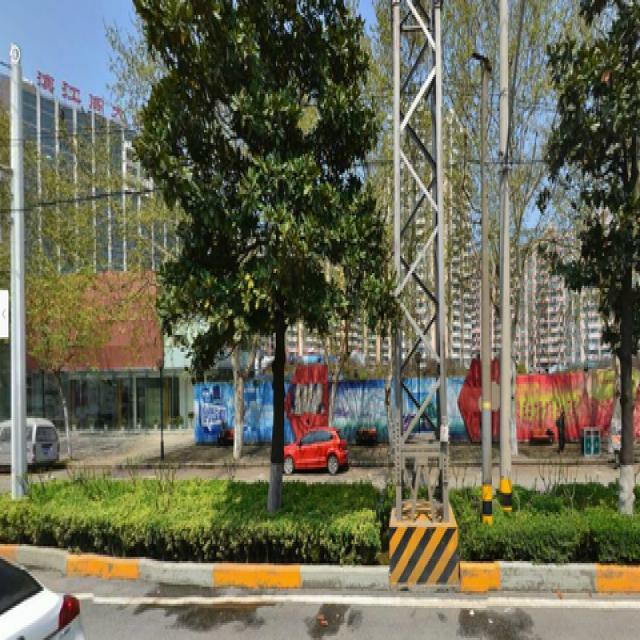magn: (171, 2, 373, 495)
